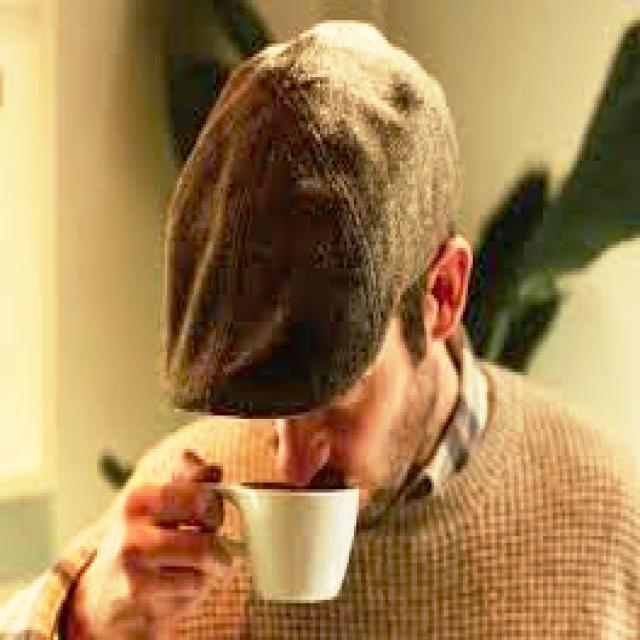TOPI: (158, 14, 458, 412)
